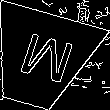M_S: (8, 28, 72, 90)
